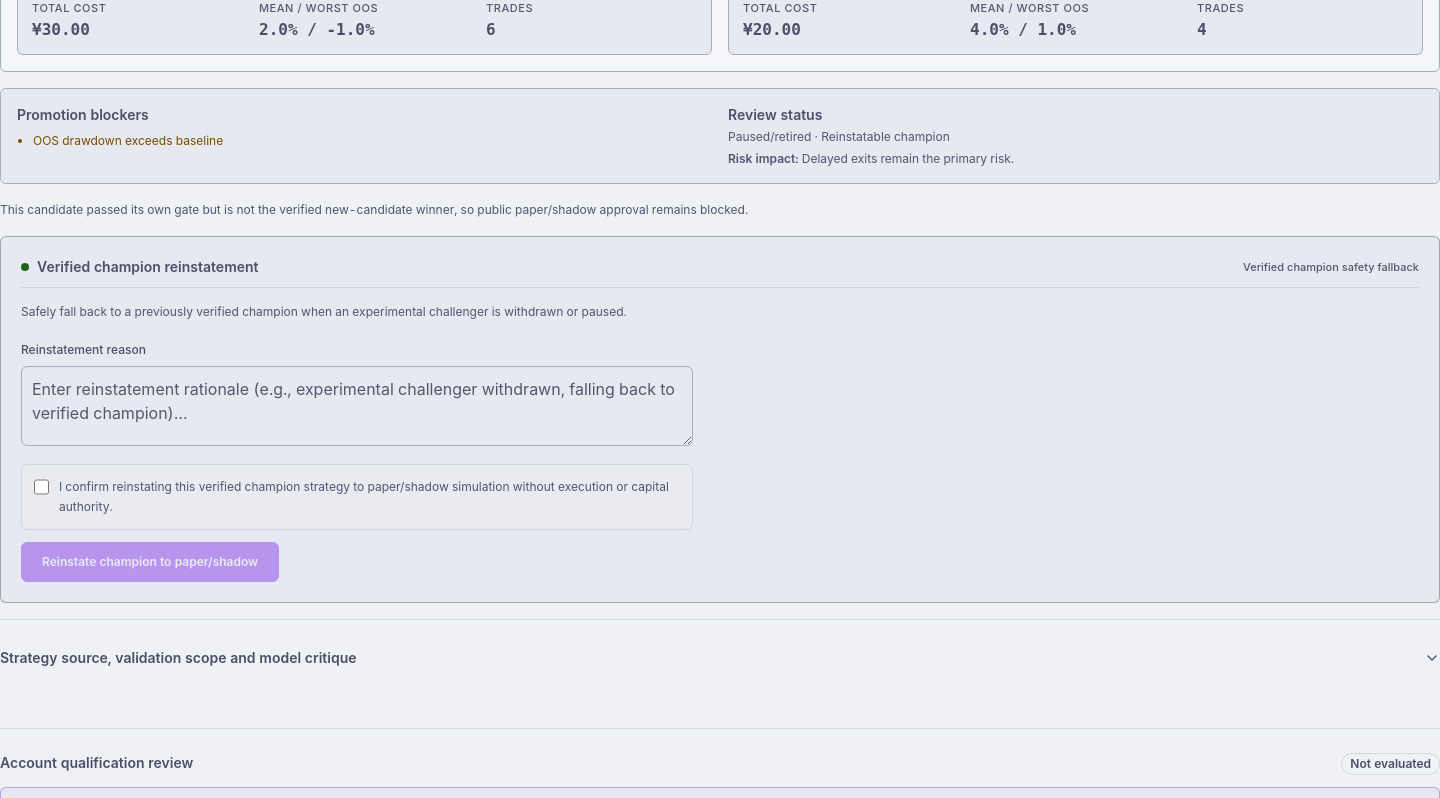
Test case: displays fail-closed alert when reinstatement request is rejected by promotion gate
The image size is (1440, 798).
(page scrolled)
Expected: the element with test id "candidate-reinstate-form" is shown, x1=0 y1=236 x2=1439 y2=602
Replace the text in the text box with test id "reinstatement-reason-input" with "Attempting invalid champion reinstatement.". click: (357, 406)
box: x1=21 y1=366 x2=693 y2=446
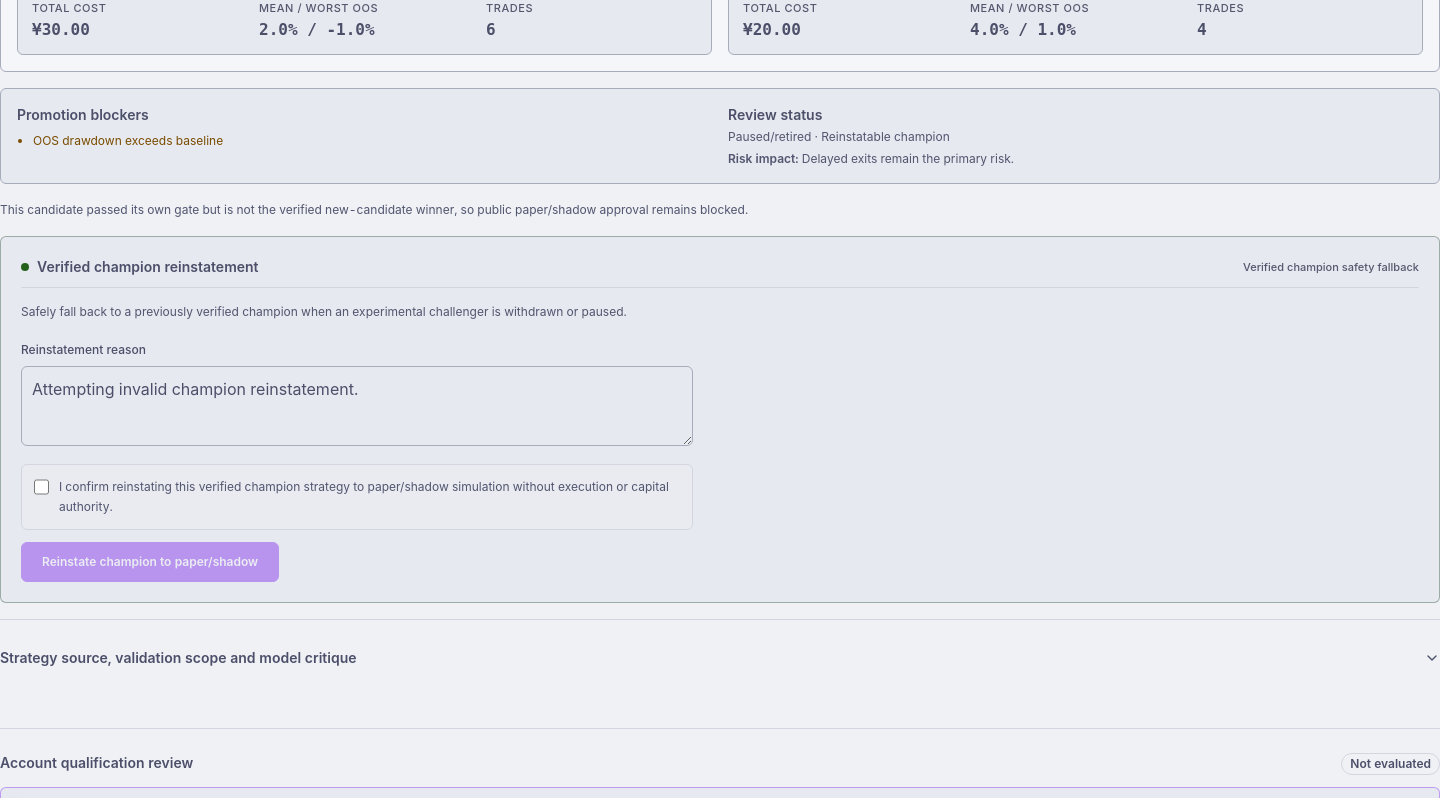
Click the checkbox with test id "reinstatement-confirmation-checkbox". click: (41, 486)
box: x1=34 y1=478 x2=49 y2=494
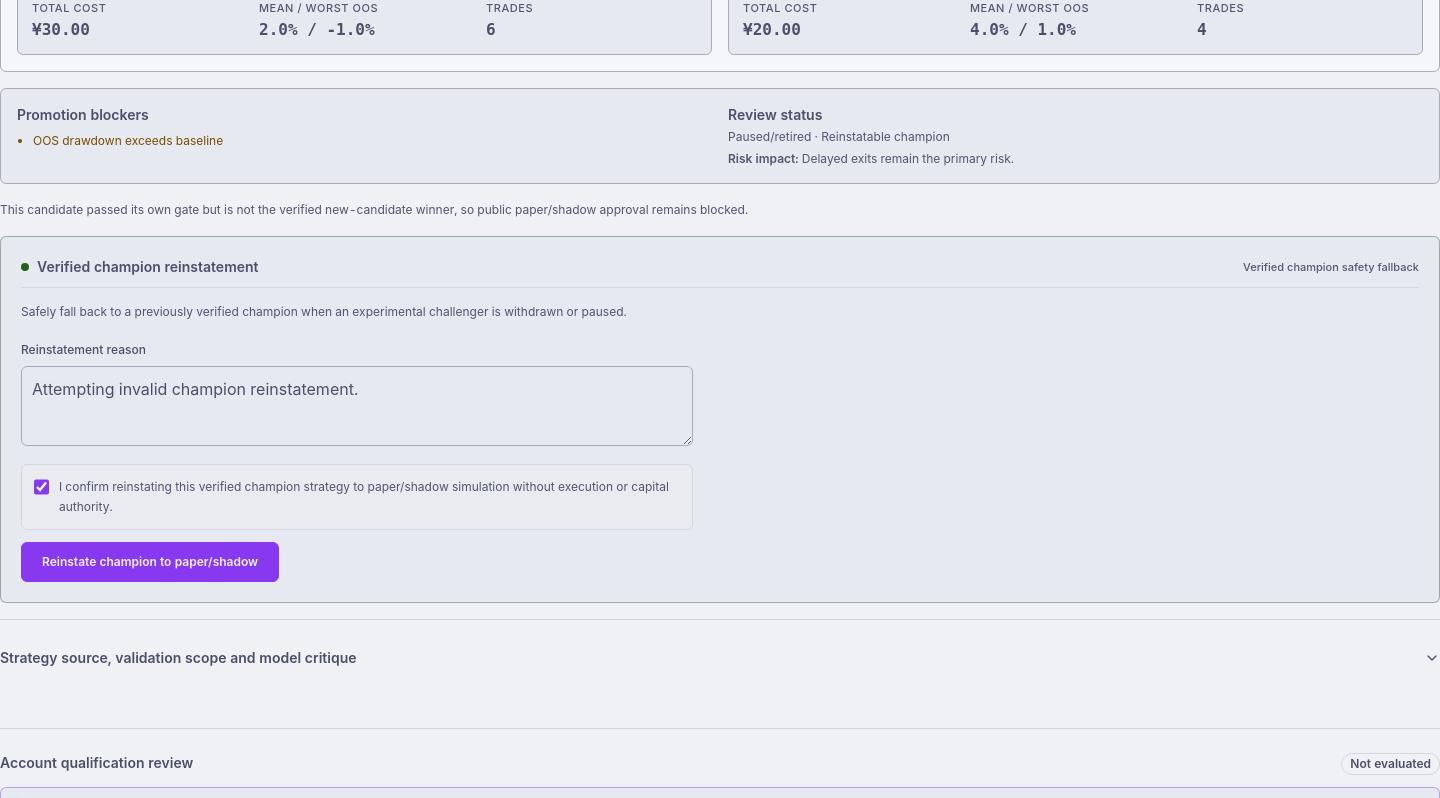
Click the button with test id "reinstate-candidate-button". click: (150, 562)
box: x1=21 y1=542 x2=279 y2=582
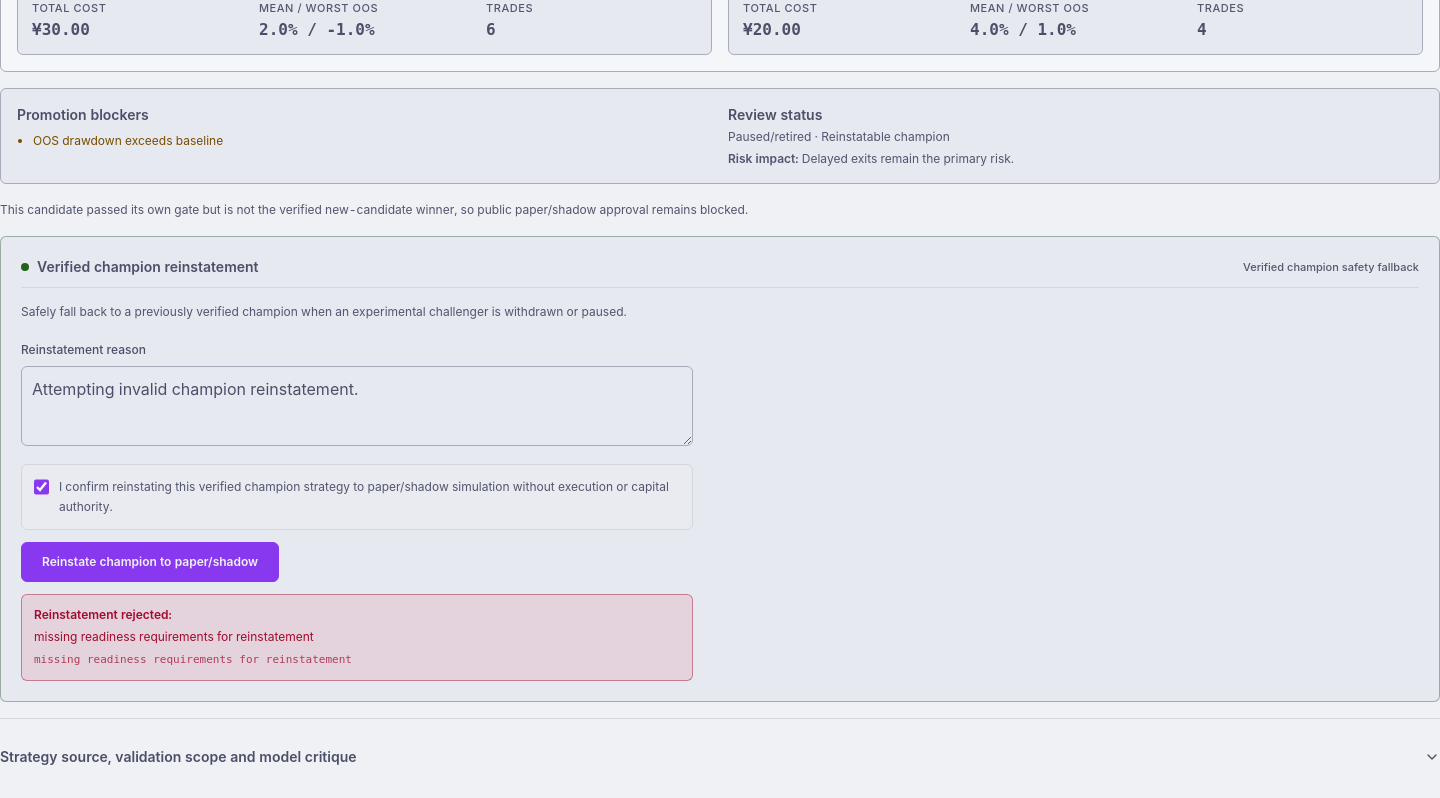
Expected: the message shows "missing readiness requirements for reinstatement", x1=34 y1=628 x2=314 y2=644
